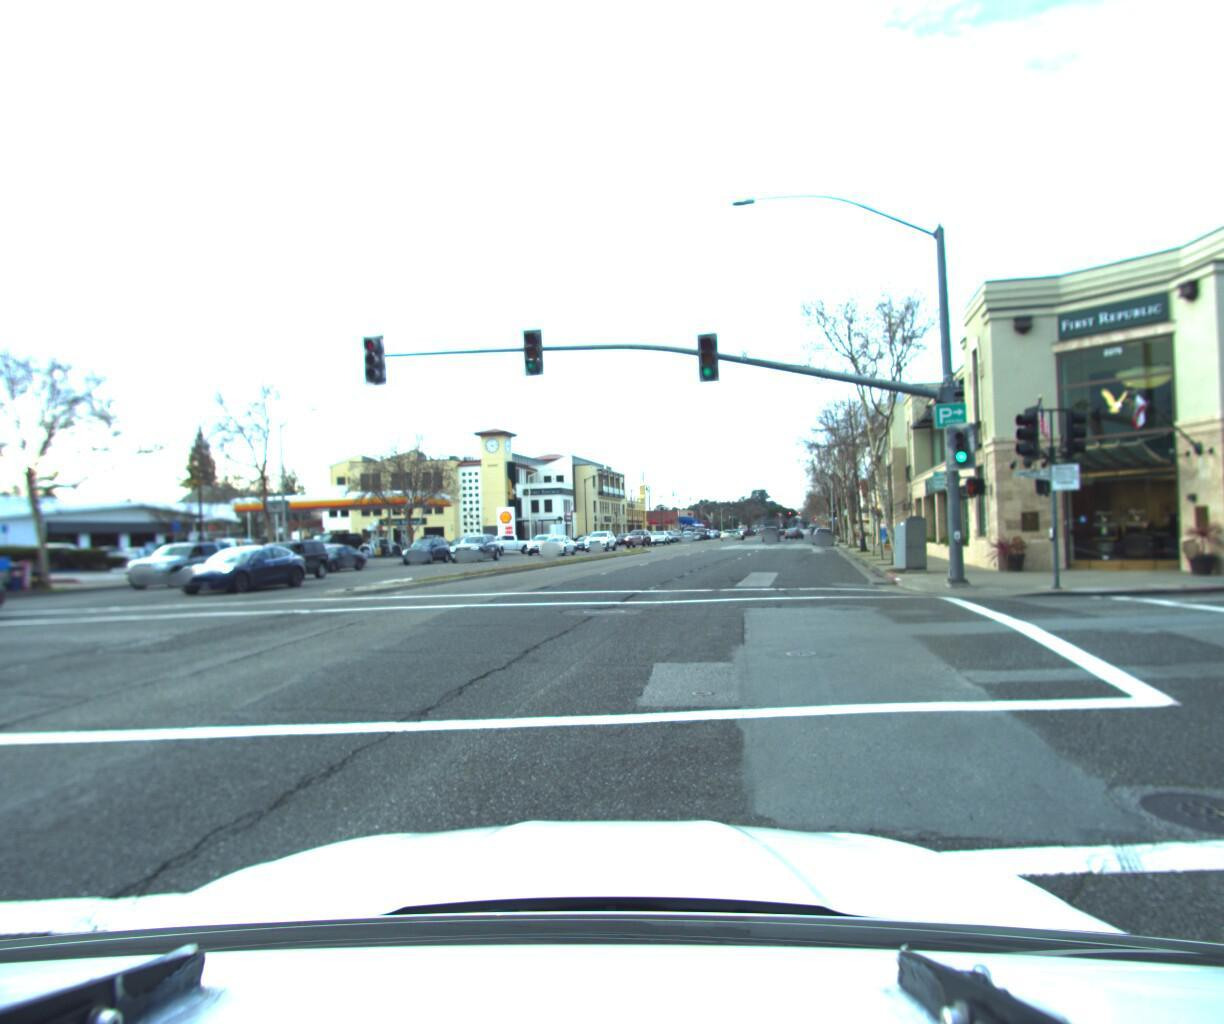car: (165, 544, 311, 598), (120, 540, 245, 591), (221, 538, 325, 585), (25, 541, 105, 579), (305, 541, 379, 573), (105, 545, 178, 576), (210, 538, 271, 571), (399, 531, 455, 565), (445, 532, 504, 563), (484, 530, 544, 552), (0, 551, 13, 649), (535, 532, 577, 556), (523, 530, 564, 554), (582, 529, 618, 551), (621, 526, 650, 545), (810, 524, 833, 545), (0, 551, 4, 641)
